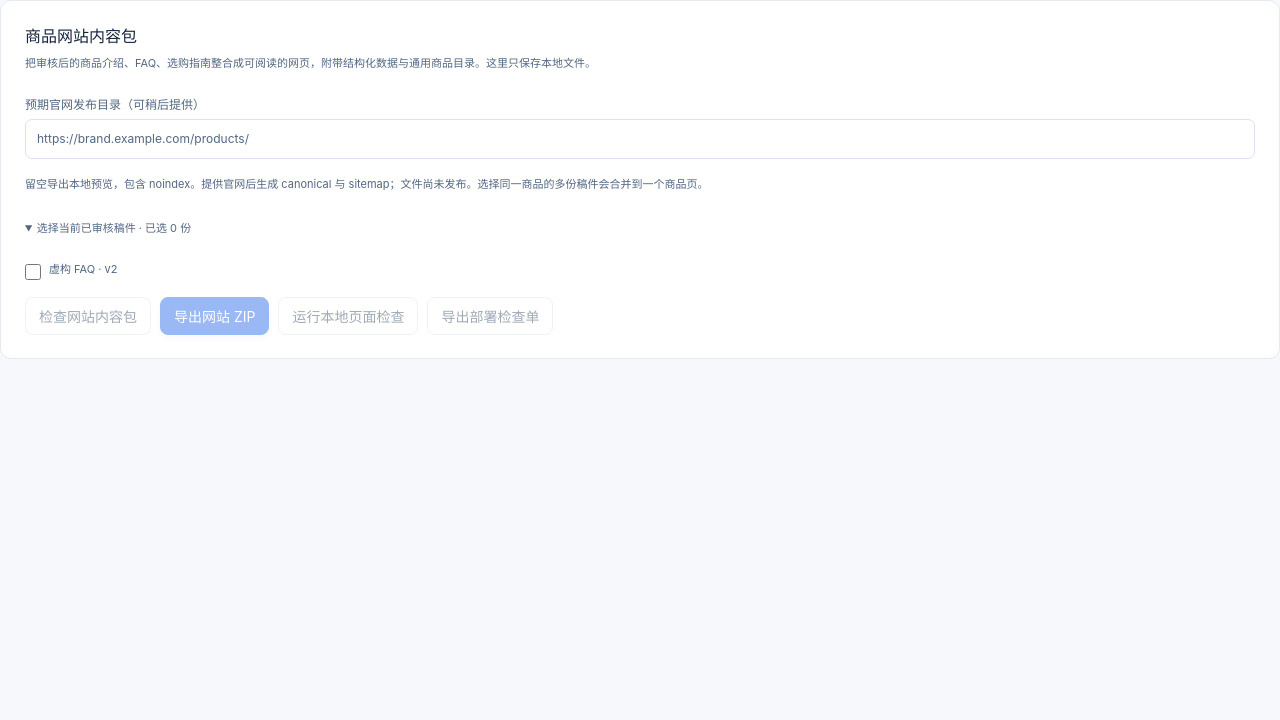
labels readiness fields, statuses and products without internal identifiers
Click the checkbox: (33, 272) [25, 264, 41, 280]
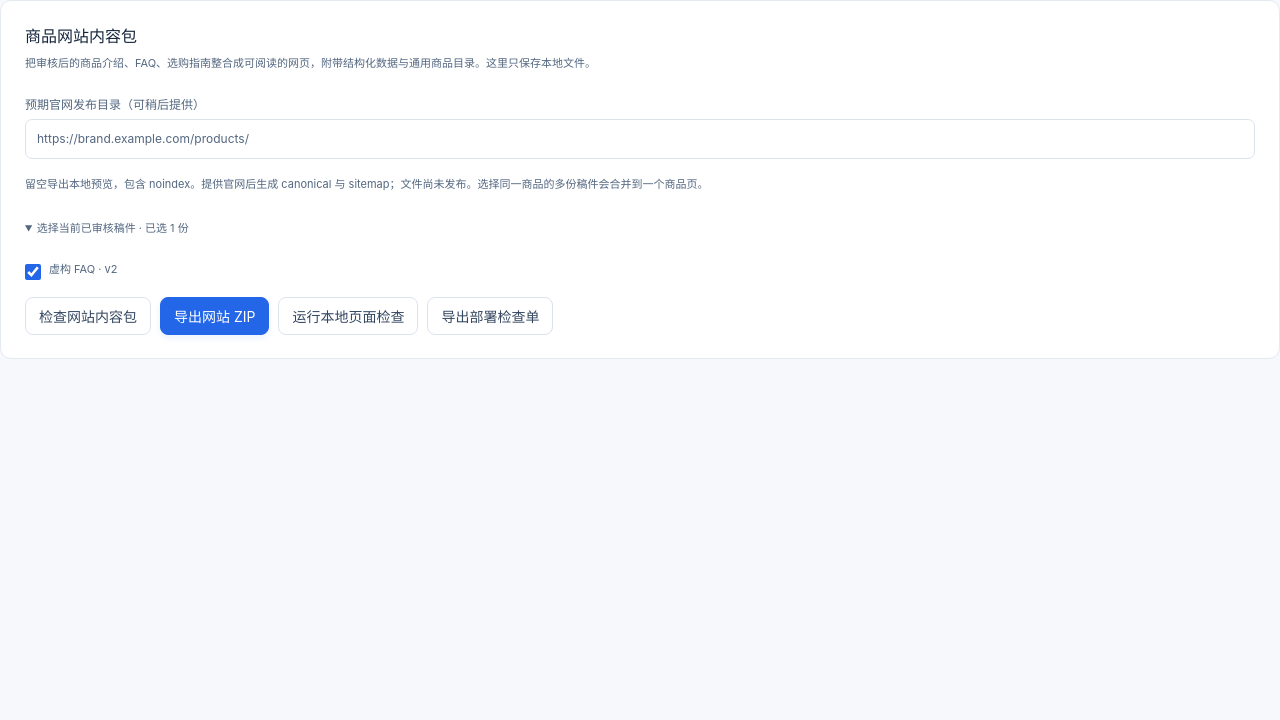
Click the button "检查网站内容包": (88, 316) [25, 297, 151, 335]
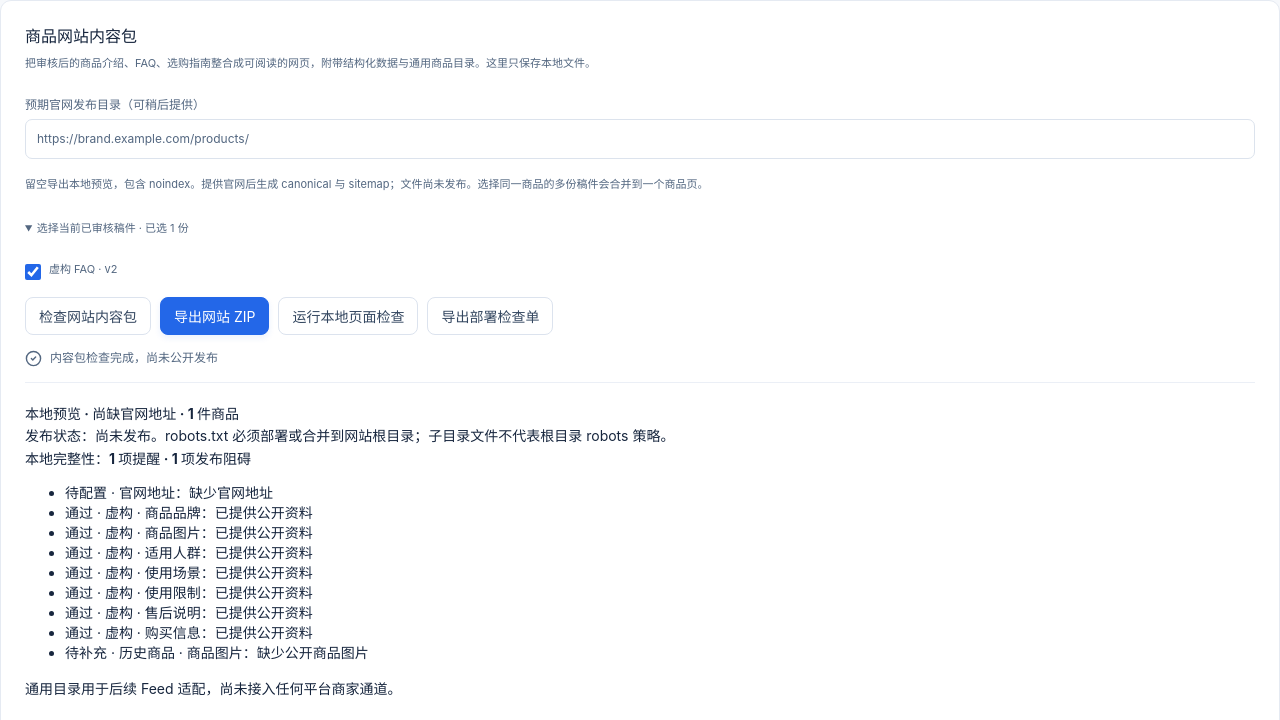
Expected: the element named "本地完整性检查" does not show "missing-product-uuid", [25, 450, 369, 661]
Result: the element named "本地完整性检查" shows "待配置 · 官网地址：缺少官网地址" at [25, 450, 369, 661]
Result: the element named "本地完整性检查" shows "待补充 · 历史商品 · 商品图片：缺少公开商品图片" at [25, 450, 369, 661]
